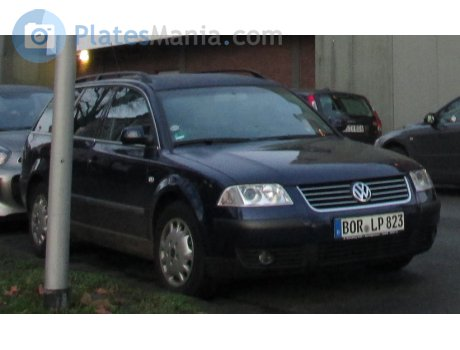License Plates: (341, 218, 402, 231)
